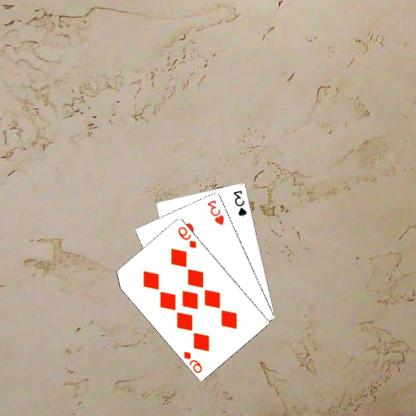3H: (206, 197, 227, 226)
3S: (233, 188, 250, 217)
9D: (182, 348, 206, 374), (177, 224, 199, 250)
